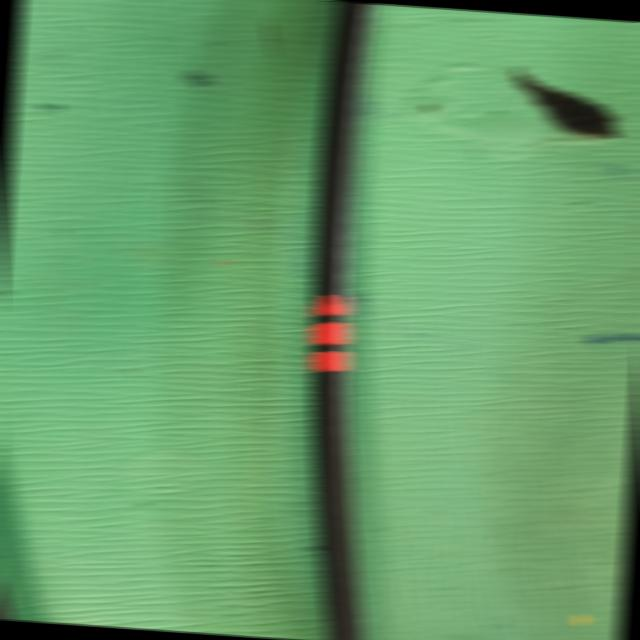red: (299, 295, 366, 374)
